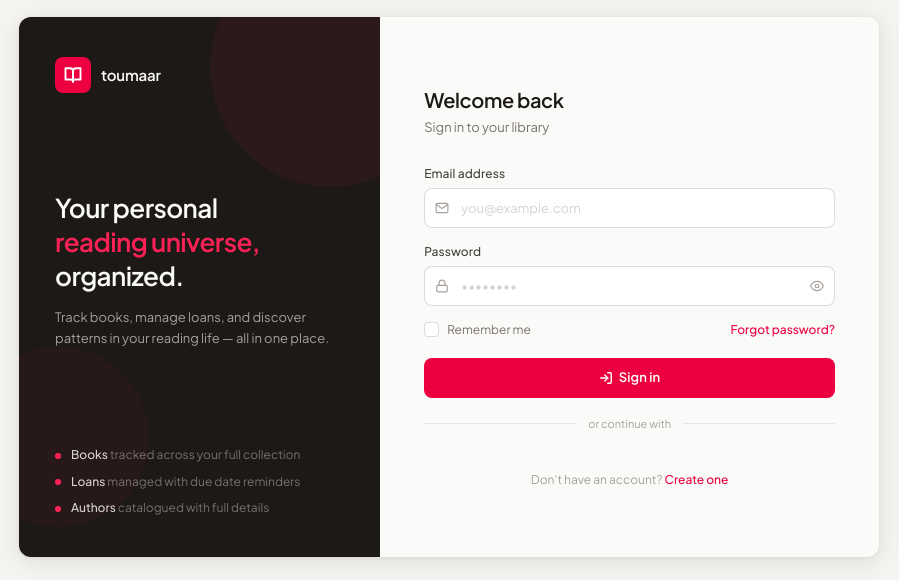
Scenario: LoginPage › shows an error when submitted with only the password filled
Type "secret" into the password field labelled "Password" at (630,286), box [424,266,835,306]
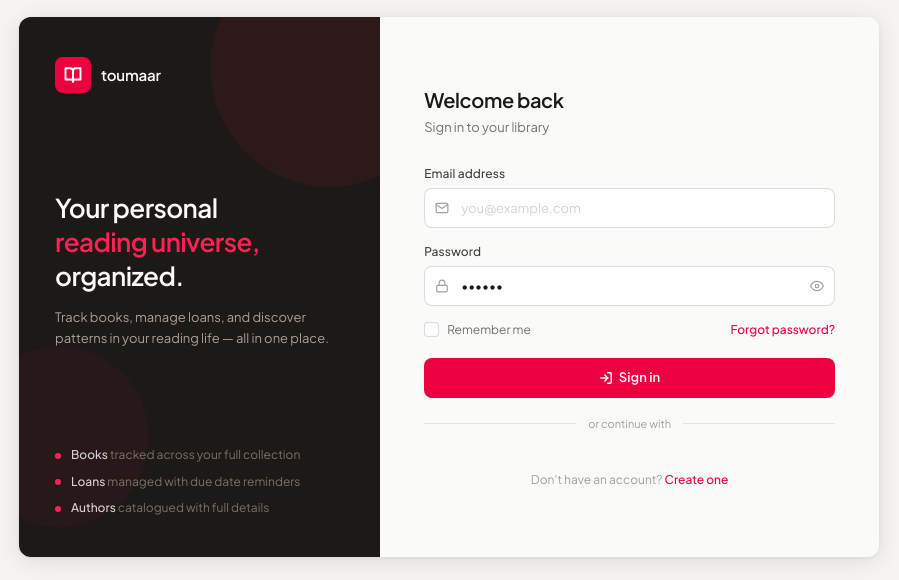
Click the button "Sign in" at (630,378), box [424,358,835,398]
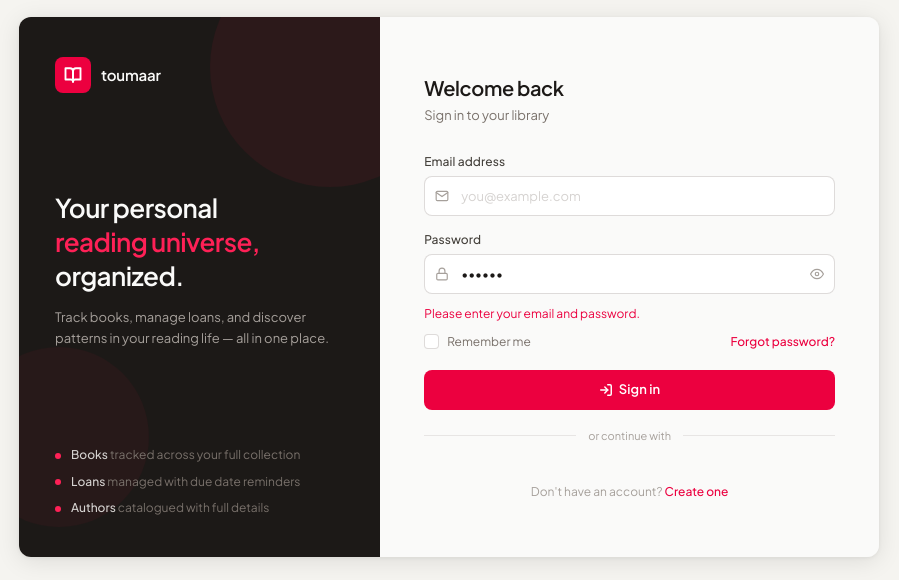
Expected: the text "Please enter your email and password." is shown, [424,306,640,320]
